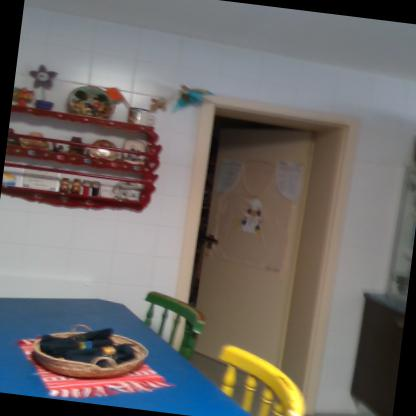semi: (158, 80, 368, 407)
